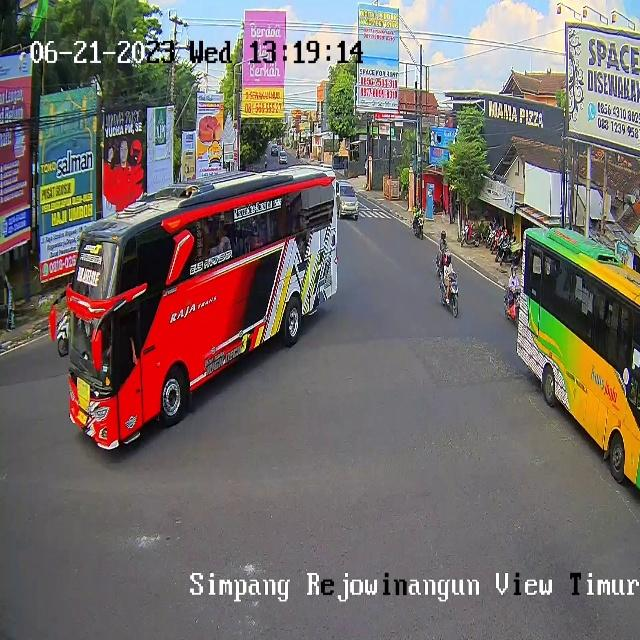bus: (439, 271, 460, 318), (502, 287, 520, 321), (57, 309, 70, 355), (414, 210, 424, 239), (439, 248, 450, 268)
car: (66, 166, 337, 450), (516, 228, 640, 490)
motorcycle: (336, 182, 359, 218)
